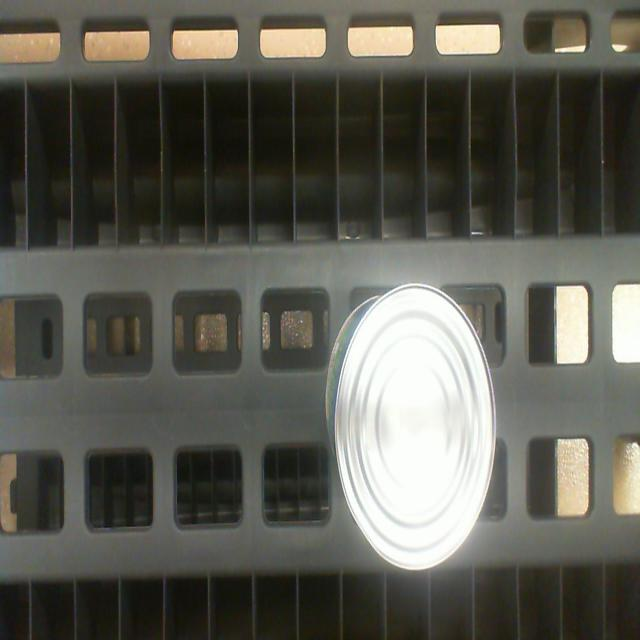can: (332, 284, 496, 570)
